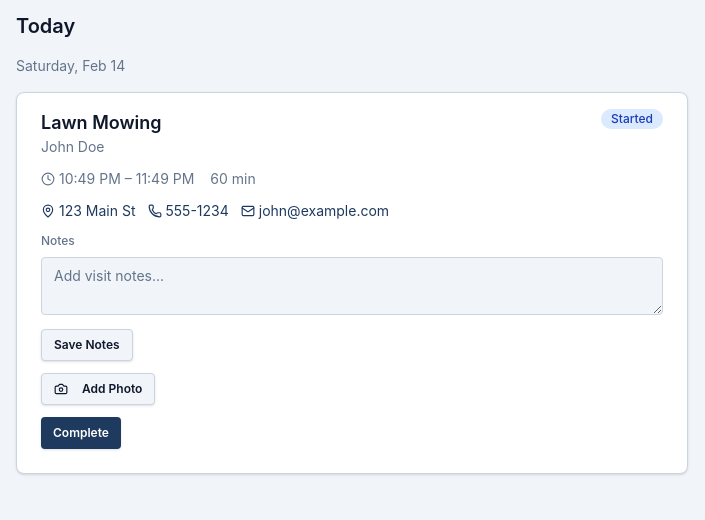
Test: TodayPage completion confirmation › shows confirmation dialog when Complete is clicked
What coordinates should you click on to do the following:
click the button with test id "action-complete"
I would click on:
 (81, 433)
Its box is [41, 417, 121, 449].
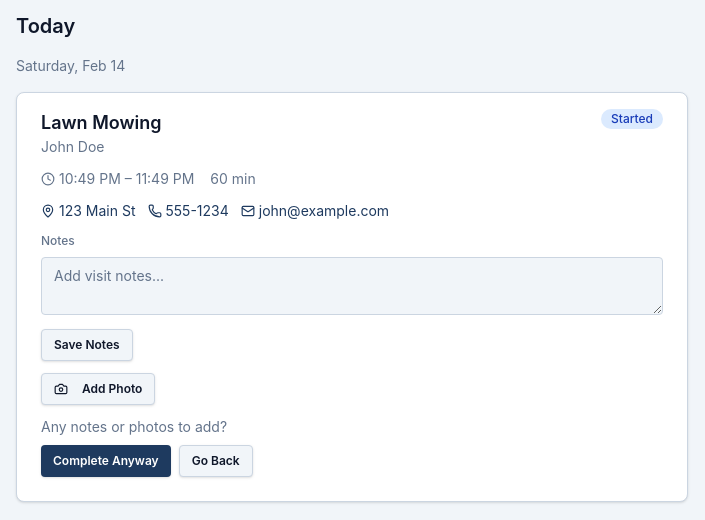
Check: the element with test id "confirm-complete" is shown, box [41, 417, 253, 477]
Check: the element with test id "confirm-complete" shows "Any notes or photos to add?", box [41, 418, 227, 435]
Check: the button with test id "complete-anyway" is shown, box [41, 445, 171, 477]
